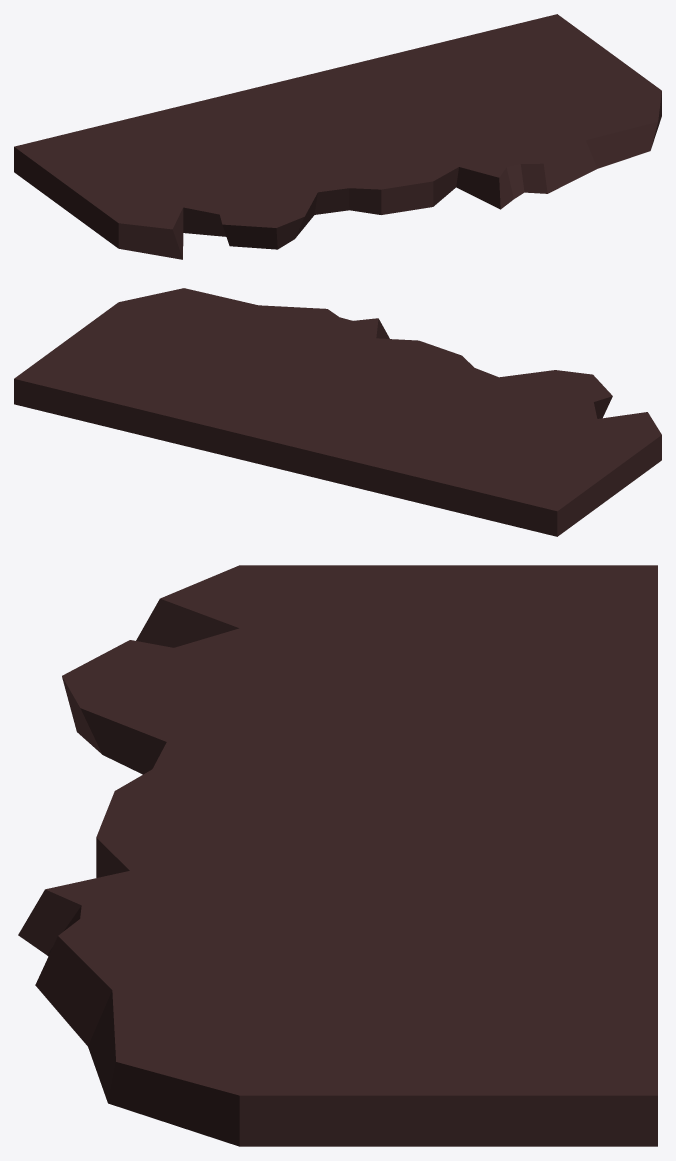
File: T_SolDetruit_04.fbx
3 renders of one model, top to bottom at view 1: azimuth 30°, elevation 25°; view 2: azimuth 150°, elevation 25°; view 3: azimuth 270°, elevation 25°, orthographic. The views are drawn at different scales.
Parts seen in each view (by area): view 1: T_SolDetruit_04; view 2: T_SolDetruit_04; view 3: T_SolDetruit_04.
Boxes of the visible parts, <box> form: T_SolDetruit_04: <box>14,14,661,259</box>; T_SolDetruit_04: <box>14,288,661,536</box>; T_SolDetruit_04: <box>18,565,657,1146</box>.
Size of the model in its own units: 300 by 13.48 by 153.
